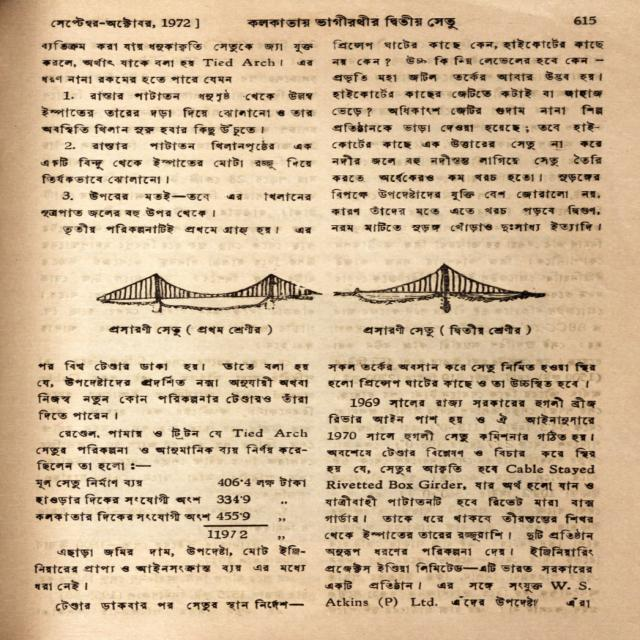caption: (361, 324, 534, 339), (107, 323, 275, 338)
image: (329, 257, 557, 314), (87, 267, 329, 316)
page number: (572, 14, 600, 27)
paragraph: (322, 393, 599, 612), (329, 35, 609, 236), (34, 359, 314, 423), (38, 138, 314, 187), (38, 89, 315, 137), (33, 544, 308, 592), (39, 39, 316, 86), (32, 426, 310, 472), (39, 188, 316, 221), (325, 360, 600, 390), (51, 598, 305, 615), (60, 222, 313, 237)
table: (24, 472, 317, 541)
text: (243, 13, 461, 31), (30, 493, 205, 507), (32, 511, 213, 524), (47, 16, 203, 31), (32, 476, 146, 491), (213, 475, 308, 490), (202, 529, 288, 542), (211, 493, 293, 506), (215, 510, 287, 522), (57, 189, 75, 202), (58, 90, 75, 101), (60, 141, 76, 150)
